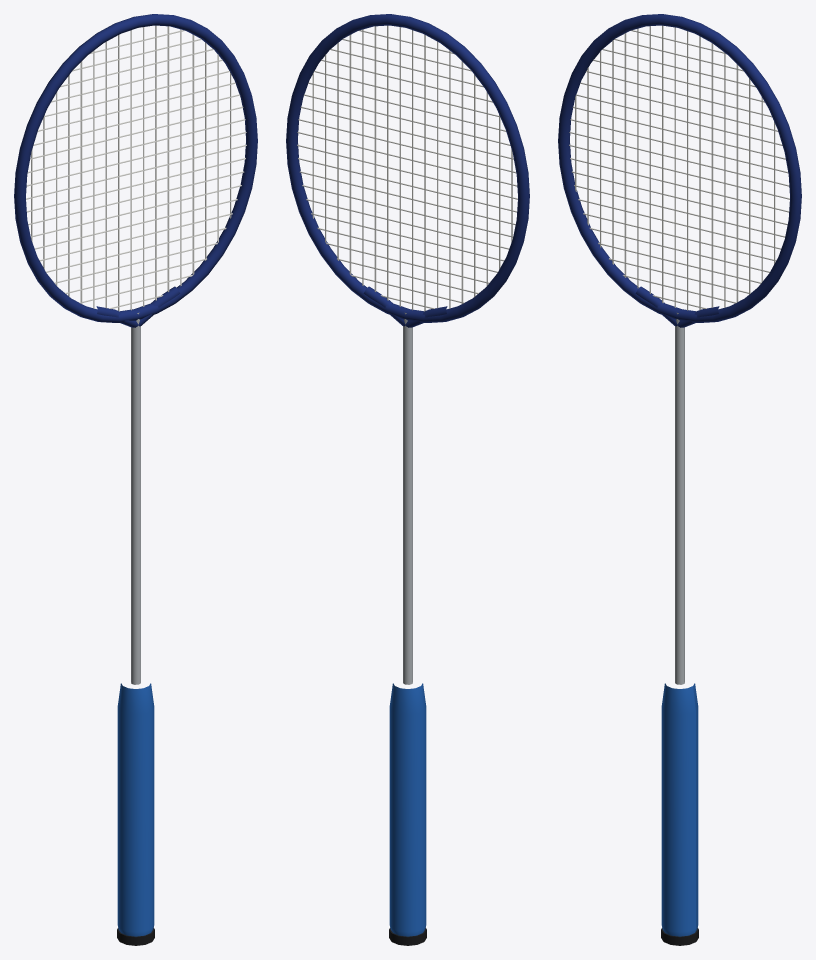
Rendered from badminton_racket.glb.
3 views of the same model, side by side, from view 1: azimuth 30°, elevation 25°; view 2: azimuth 150°, elevation 25°; view 3: azimuth 330°, elevation 25° (orthographic).
Parts seen in each view (by area): view 1: BadmintonRacket; view 2: BadmintonRacket; view 3: BadmintonRacket.
Boxes of the visible parts, <box> form: BadmintonRacket: <box>14,14,257,945</box>; BadmintonRacket: <box>286,14,529,945</box>; BadmintonRacket: <box>558,14,801,945</box>.
Bounding box in the file's own units: 0.205 × 0.7435 × 0.0276.
